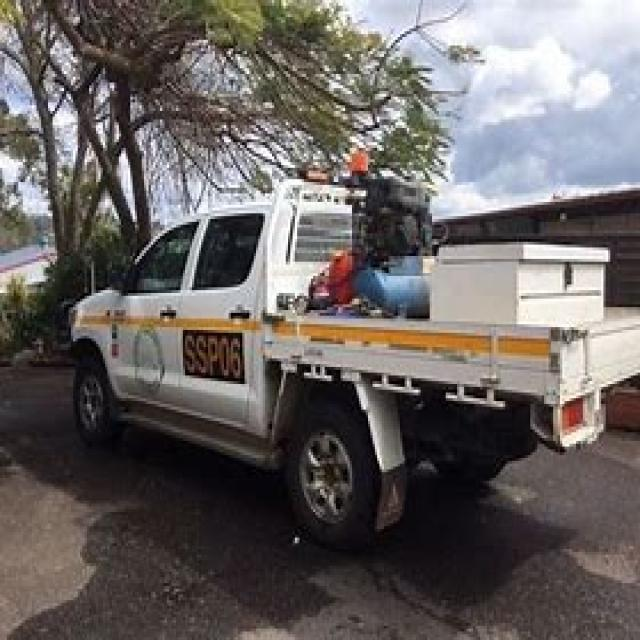light_vehicle: (57, 165, 638, 546)
